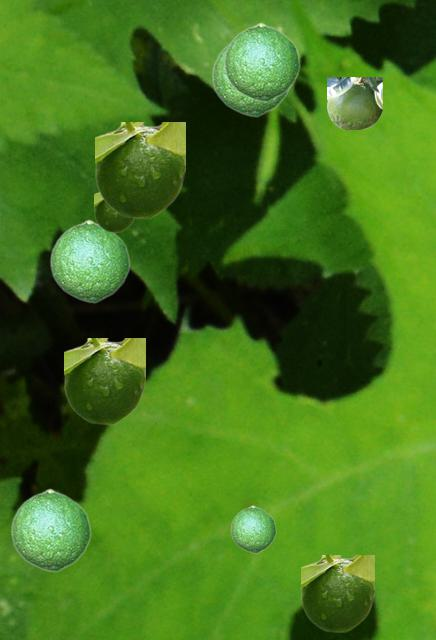dalandan: (95, 122, 184, 217), (64, 338, 144, 423), (49, 219, 129, 302), (10, 488, 90, 571), (223, 22, 299, 101), (211, 43, 290, 116), (301, 555, 373, 631), (327, 77, 381, 128), (230, 505, 275, 552), (94, 192, 135, 231)
